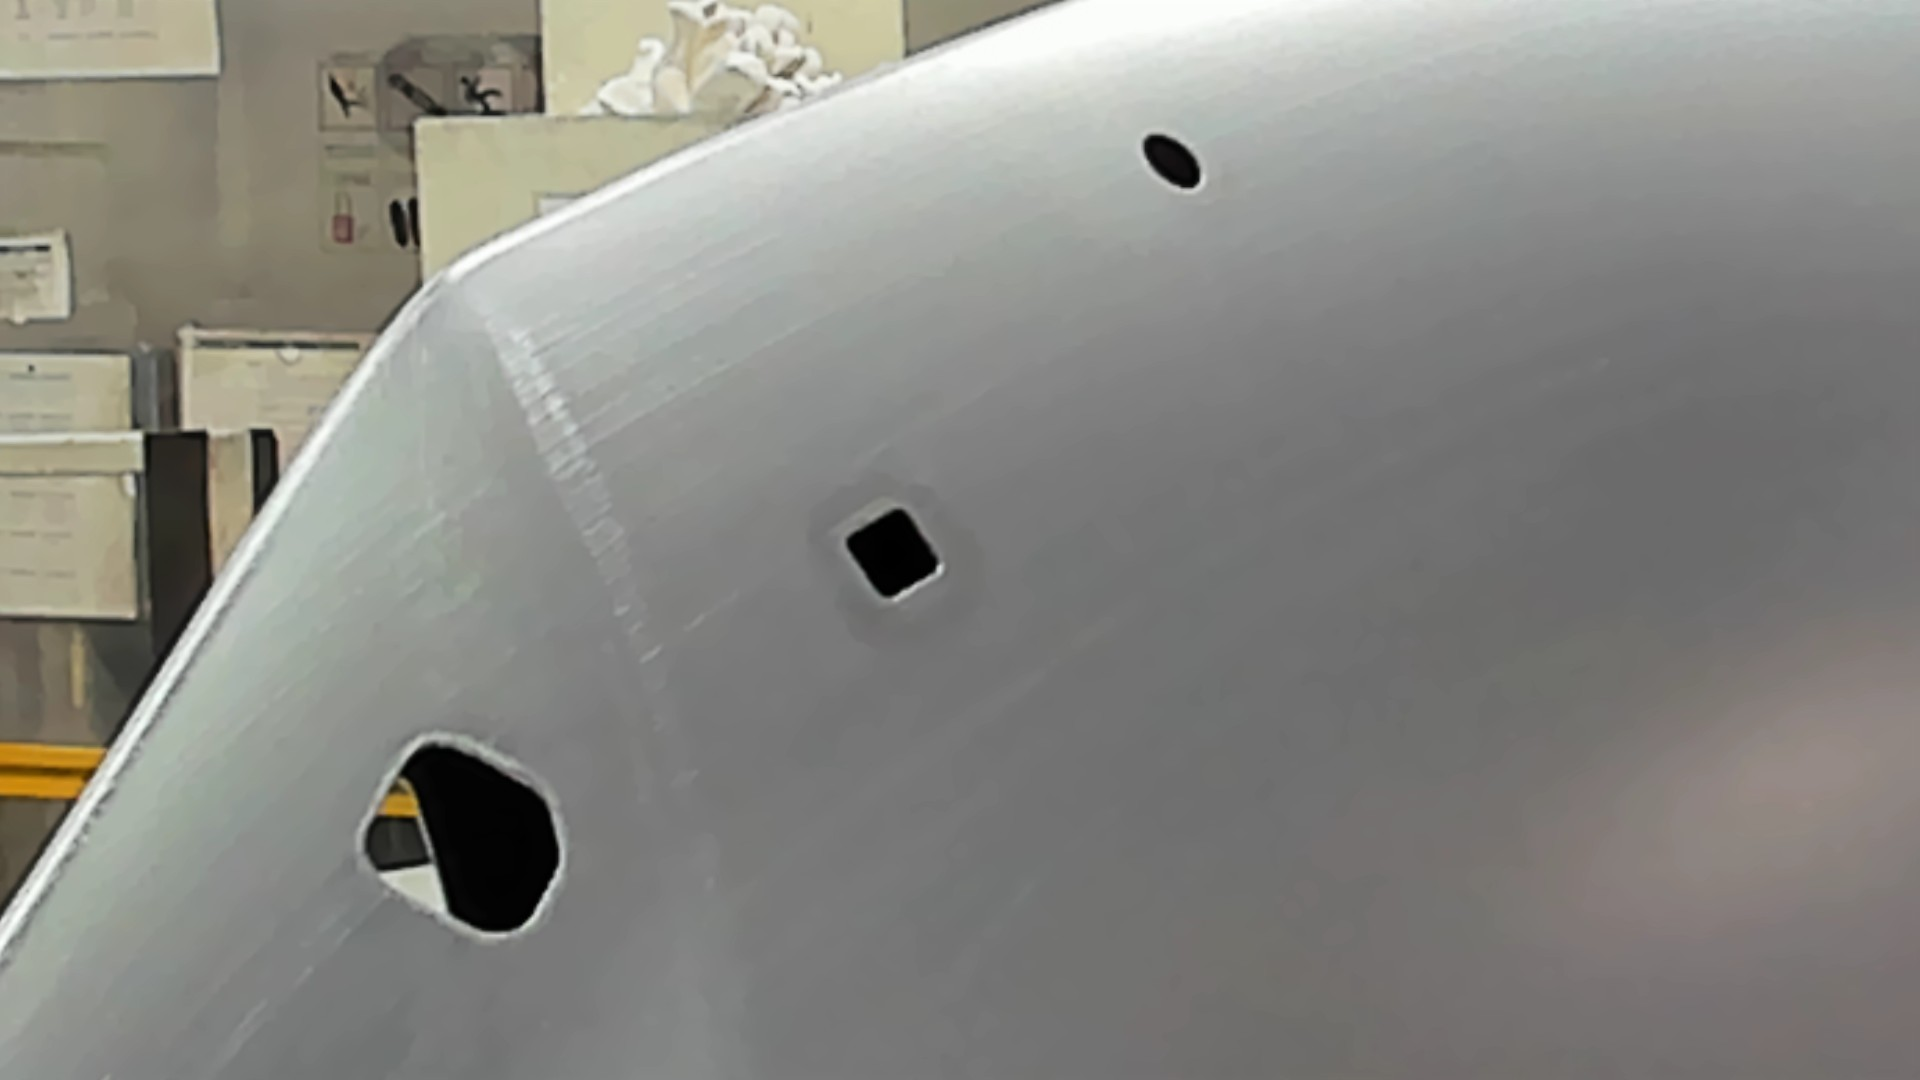capo: (952, 198, 1920, 1080)
chico: (1137, 124, 1209, 196)
grande: (351, 723, 566, 949)
mediano: (839, 500, 949, 611)
